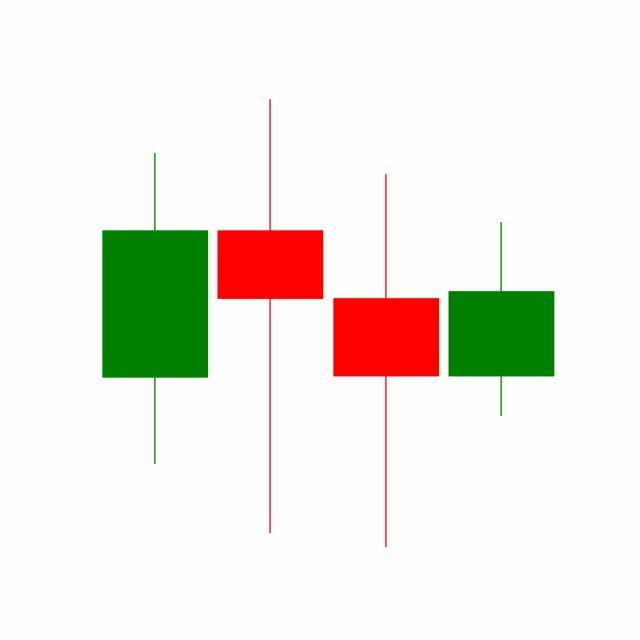Spinning Top: (329, 170, 445, 552)
